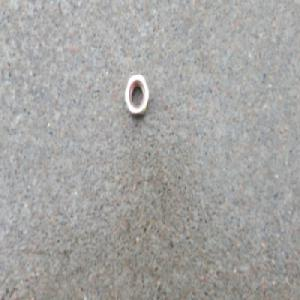Nut: (123, 72, 149, 119)
